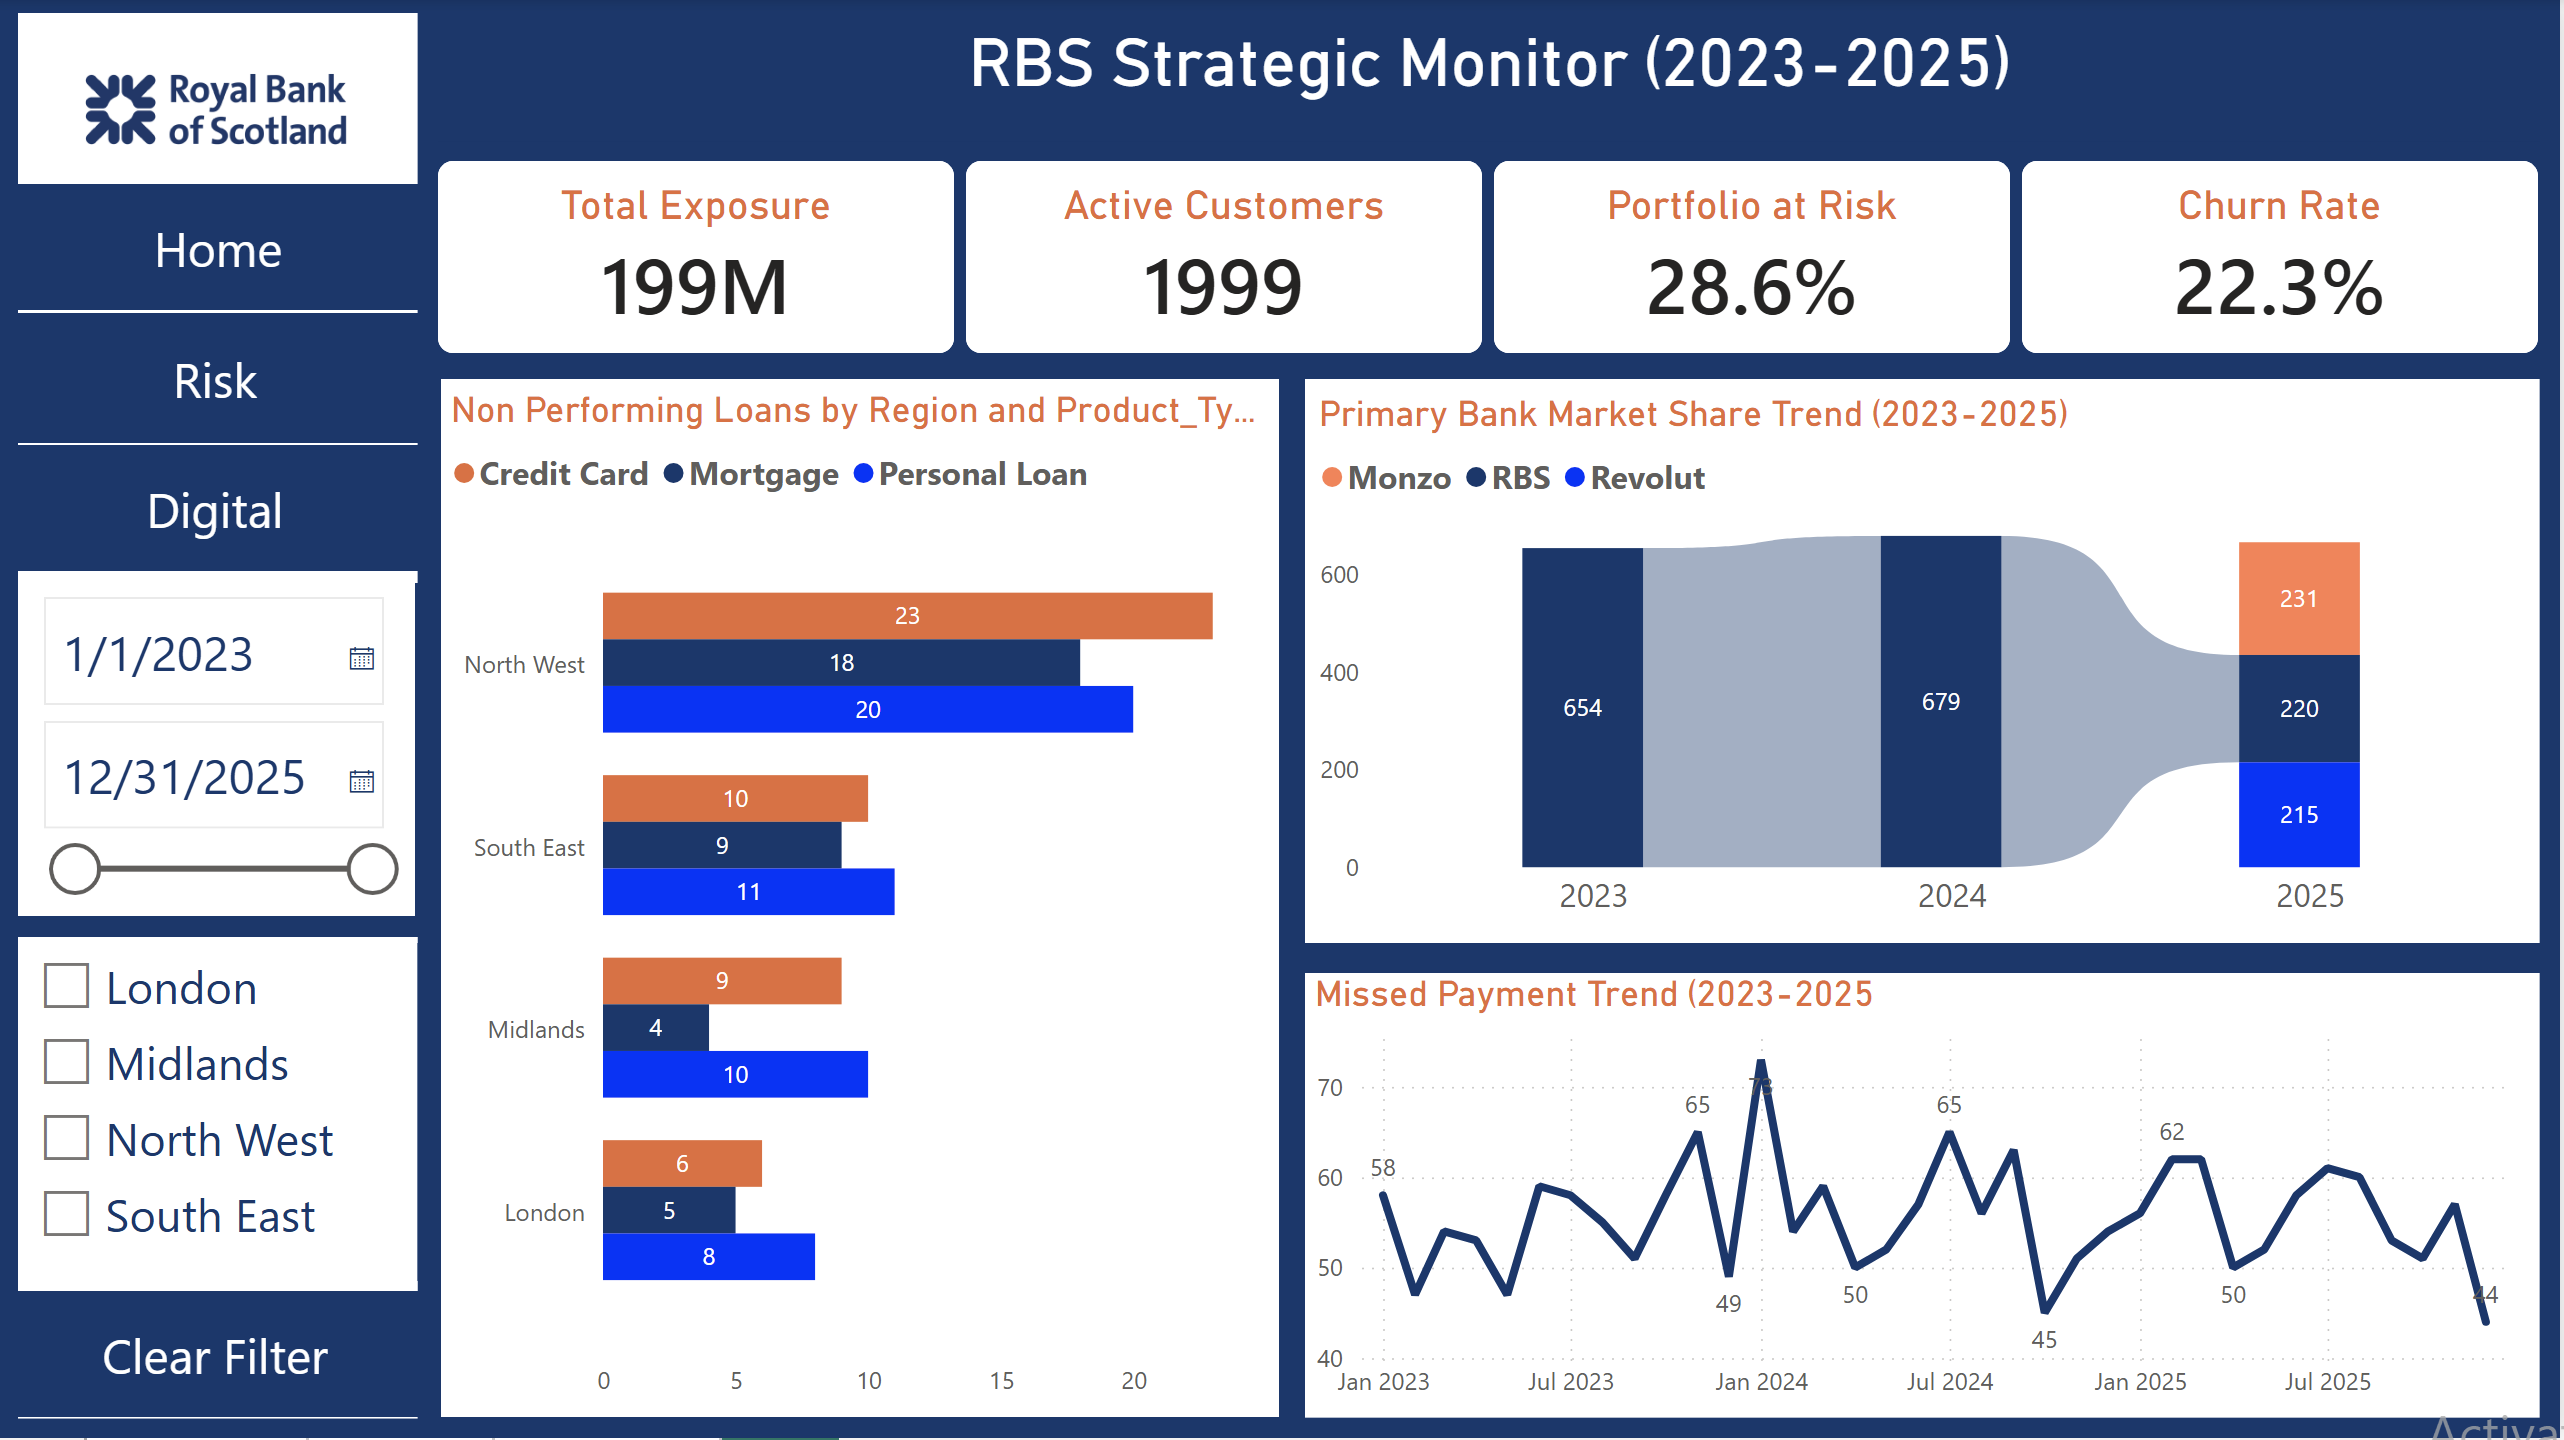

What the dashboard file says about the page in this screenshot:
{"tool":"powerbi","page":{"name":"Home","canvas":[1280,720],"ordinal":0},"visuals":[{"type":"textbox","box":[219.2,8.1,1051.1,64.5],"z":1000},{"type":"cardVisual","fields":{"Data":["Loan_R.TotalLoans","CountNonNull(Loan_R.Customer_ID)","Loan_R.Portfolio at Risk %","Monthly_Activity_R.Competitor Usage %"]},"box":[219.2,75.8,1051.1,106.4],"z":2000},{"type":"ribbonChart","title":"Primary Bank Market Share Trend  (2023-2025)","fields":{"Category":["Monthly_Activity_R.Date.Variation.Date Hierarchy.Year"],"Series":["Monthly_Activity_R.Primary_Bank"],"Y":["Monthly_Activity_R.TotalTxns"]},"box":[652,190.2,617.4,282.1],"z":3000},{"type":"clusteredBarChart","title":"Non Performing Loans by Region and Product_Type","fields":{"Category":["Customer_R.Region","Customer_R.Segment"],"Series":["Loan_R.Product_Type"],"Y":["Monthly_Activity_R.Total Missed Payments"]},"box":[220.9,190.2,419.1,519.1],"z":4000},{"type":"lineChart","title":"Missed Payment Trend (2023-2025","fields":{"Y":["CountNonNull(Monthly_Activity_R.Missed_Pay)"],"Category":["Monthly_Activity_R.Date.Variation.Date Hierarchy.Year","Monthly_Activity_R.Date.Variation.Date Hierarchy.Month"]},"box":[652.9,486.9,617.4,222.5],"z":5000},{"type":"shape","box":[9,7,199.9,702.9],"z":6000},{"type":"image","box":[9.7,8.1,198.3,96],"z":7000},{"type":"shape","box":[7,93.5,203,63],"z":8000},{"type":"shape","box":[6,158,203,65],"z":9000},{"type":"shape","box":[9,292,200,177],"z":10000},{"type":"shape","box":[6.7,224,203,63],"z":11000},{"type":"shape","box":[6,647,203,63],"z":12000},{"type":"shape","box":[9.7,472,200,169],"z":13000},{"type":"slicer","fields":{"Values":["Monthly_Activity_R.Date"]},"box":[9.7,290,198.3,169.3],"z":14000},{"type":"slicer","fields":{"Values":["Customer_R.Region"]},"box":[9,469.5,199.5,177],"z":15000}]}

Visuals, with their boxes in screenshot pixels (x1, y1, x2, y2), scaled from the page's 1280x720 canvas onto the 2564x1440 screenshot:
textbox: bbox(439, 16, 2545, 145)
cardVisual - Loan_R.TotalLoans x CountNonNull(Loan_R.Customer_ID): bbox(439, 152, 2545, 364)
"Primary Bank Market Share Trend  (2023-2025)" ribbonChart: bbox(1306, 380, 2543, 945)
"Non Performing Loans by Region and Product_Type" clusteredBarChart: bbox(442, 380, 1282, 1419)
"Missed Payment Trend (2023-2025" lineChart: bbox(1308, 974, 2545, 1419)
shape: bbox(18, 14, 418, 1420)
image: bbox(19, 16, 417, 208)
shape: bbox(14, 187, 421, 313)
shape: bbox(12, 316, 419, 446)
shape: bbox(18, 584, 419, 938)
shape: bbox(13, 448, 420, 574)
shape: bbox(12, 1294, 419, 1420)
shape: bbox(19, 944, 420, 1282)
slicer - Monthly_Activity_R.Date: bbox(19, 580, 417, 919)
slicer - Customer_R.Region: bbox(18, 939, 418, 1293)
